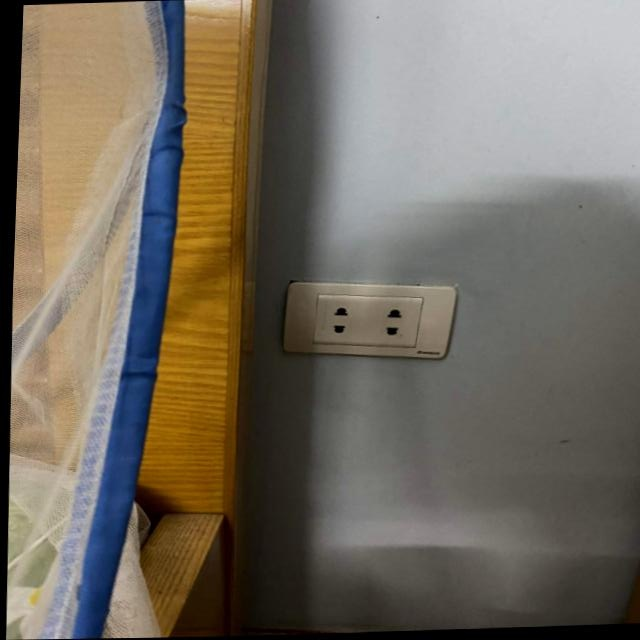outlet: (279, 277, 459, 367)
